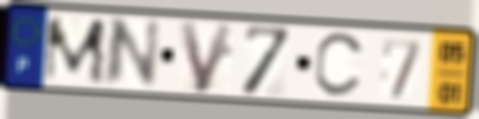7: (241, 23, 293, 99), (379, 37, 423, 101)
C: (311, 31, 369, 101)
M: (40, 16, 109, 86)
N: (99, 16, 164, 90)
V: (176, 19, 237, 96)
